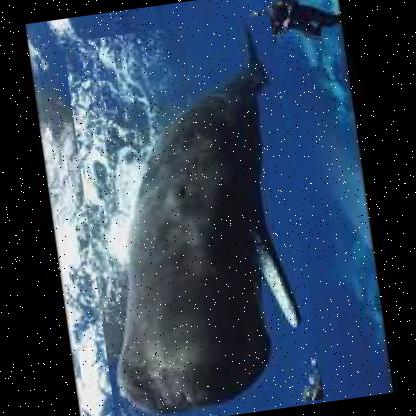sperm_whale: (61, 14, 324, 415)
